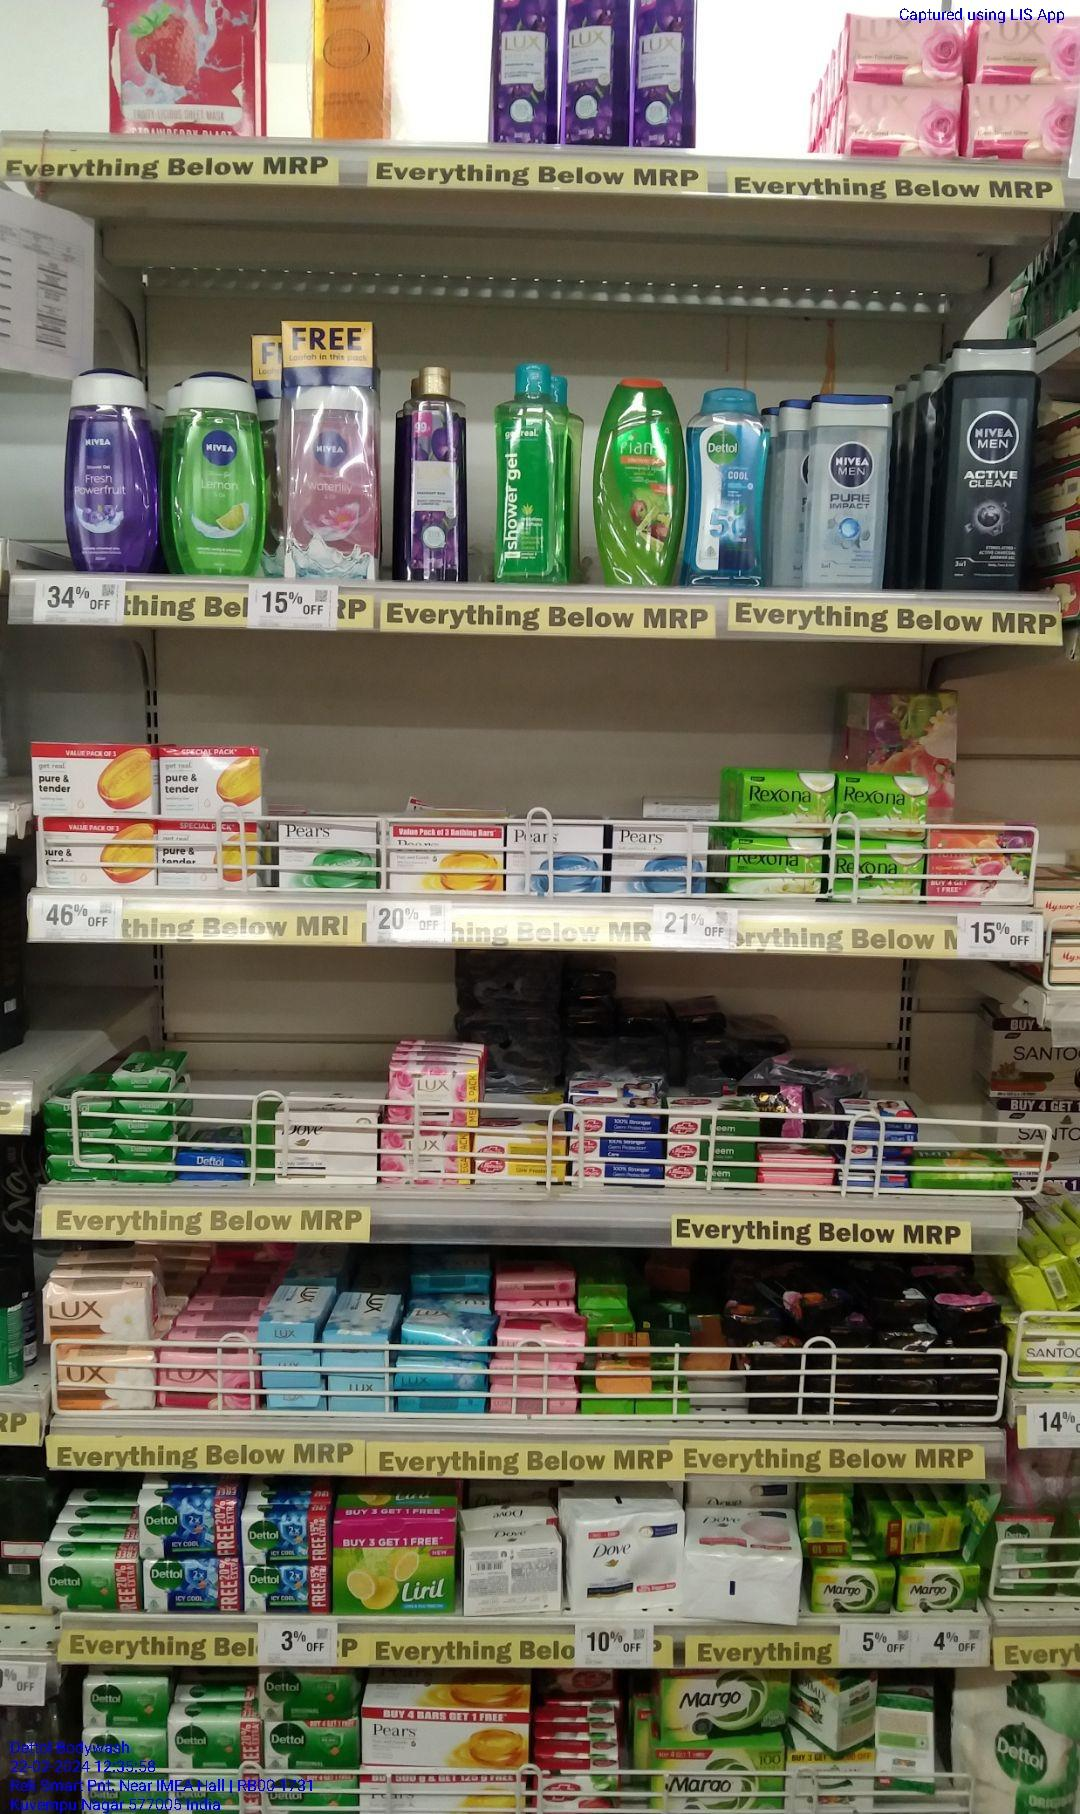Dettol_Bodywash_Cool: (690, 384, 768, 582)
Fiama_Shower_Gel_Lemongrass_and_Jojoba_250ML: (590, 375, 685, 590)
Lux_Black_Orchid_Scent_and_Juniper_Oil_Body_Wash_245ML: (408, 352, 469, 585), (490, 0, 559, 143), (563, 0, 631, 144), (636, 0, 690, 145)
Nivea_Shower_Gel_Fresh_Powerfruit_250ML: (66, 375, 158, 571)
Nivea_Shower_Gel_Lemon_and_Oil_250ML: (170, 372, 267, 573)
